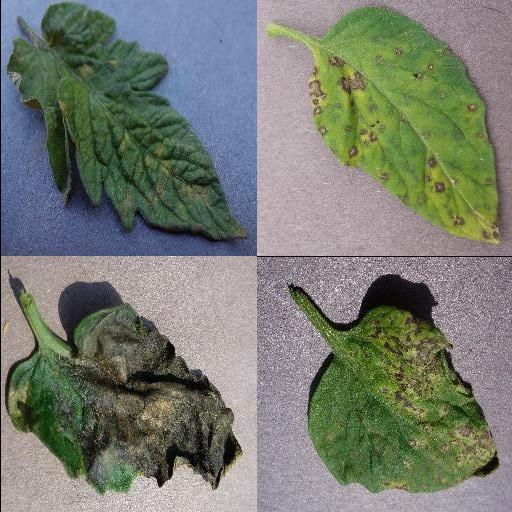Late Blight: (4, 306, 244, 494)
Leaf Mold: (5, 3, 249, 240)
Septoria: (303, 6, 499, 246), (305, 306, 496, 494)
